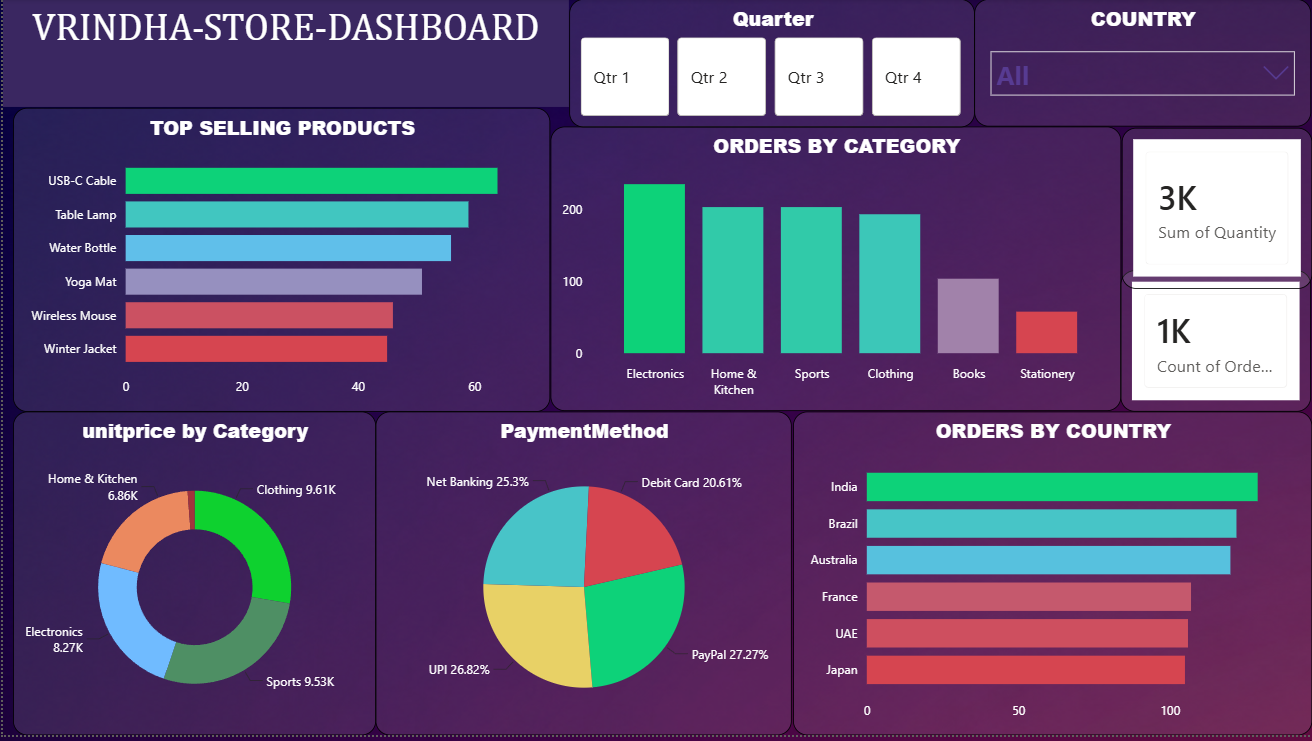

What the dashboard file says about the page in this screenshot:
{"tool":"powerbi","page":{"name":"Page 1","canvas":[1280,720],"ordinal":0},"visuals":[{"type":"textbox","box":[0,0,553.7,105.6],"z":0},{"type":"columnChart","title":"ORDERS BY CATEGORY","fields":{"Category":["orders.Category"],"Y":["CountNonNull(orders.OrderID)"]},"box":[535.2,124.9,558.5,278.6],"z":1000},{"type":"clusteredBarChart","title":" ORDERS BY COUNTRY","fields":{"Category":["customers.Country"],"Y":["CountNonNull(orders.OrderID)"]},"box":[772.3,403.4,508,316.6],"z":2000},{"type":"pieChart","title":"PaymentMethod","fields":{"Y":["CountNonNull(orders.OrderID)"],"Category":["orders.PaymentMethod"]},"box":[364.8,403.4,407.5,316.6],"z":3000},{"type":"barChart","title":"TOP SELLING PRODUCTS","fields":{"Y":["CountNonNull(orders.OrderID)"],"Category":["orders.ProductName"]},"box":[9.6,106,525.9,297.4],"z":4000},{"type":"cardVisual","fields":{"Data":["CountNonNull(orders.OrderID)"]},"box":[1093.7,264.8,186.6,138.6],"z":5000},{"type":"advancedSlicerVisual","fields":{"Values":["orders.OrderDate.Variation.Date Hierarchy.Quarter"]},"box":[554,0,396.9,125.4],"z":6000},{"type":"cardVisual","fields":{"Data":["Sum(orders.Quantity)"]},"box":[1093.9,126,186.1,157.5],"z":7000},{"type":"donutChart","title":" unitprice by Category","fields":{"Category":["orders.Category"],"Y":["Sum(orders.unitprice)"]},"box":[10,403,355,317],"z":8000},{"type":"slicer","title":"COUNTRY","fields":{"Values":["customers.Country"]},"box":[950.7,0,329.3,124.6],"z":9000}]}

Visuals, with their boxes in screenshot pixels (x1, y1, x2, y2), scaled from the page's 1280x720 canvas onto the 1312x741 screenshot:
textbox: bbox=(0, 0, 568, 109)
"ORDERS BY CATEGORY" columnChart: bbox=(549, 129, 1121, 415)
" ORDERS BY COUNTRY" clusteredBarChart: bbox=(792, 415, 1311, 740)
"PaymentMethod" pieChart: bbox=(374, 415, 792, 740)
"TOP SELLING PRODUCTS" barChart: bbox=(10, 109, 549, 415)
cardVisual - CountNonNull(orders.OrderID): bbox=(1121, 273, 1311, 415)
advancedSlicerVisual - orders.OrderDate.Variation.Date Hierarchy.Quarter: bbox=(568, 0, 975, 129)
cardVisual - Sum(orders.Quantity): bbox=(1121, 130, 1311, 292)
" unitprice by Category" donutChart: bbox=(10, 415, 374, 740)
"COUNTRY" slicer: bbox=(974, 0, 1311, 128)
